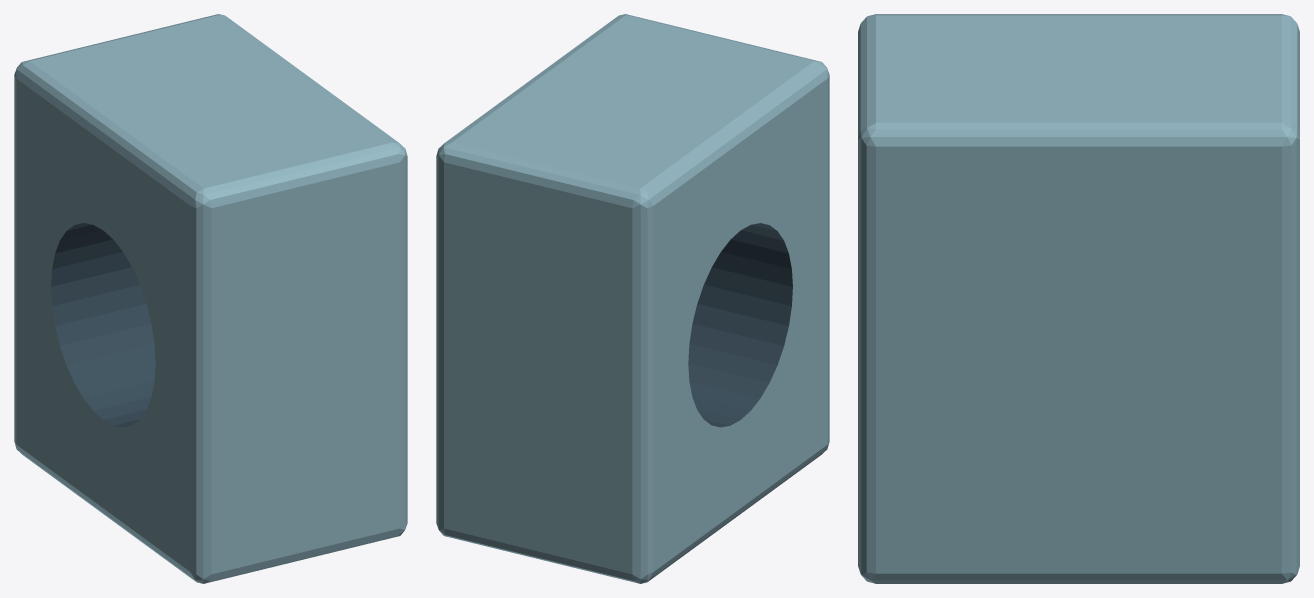
3 renders of one model, left to right at view 1: azimuth 30°, elevation 25°; view 2: azimuth 150°, elevation 25°; view 3: azimuth 270°, elevation 25°, orthographic. The views are drawn at different scales.
Visible parts, largest first — view 1: geometry_0; view 2: geometry_0; view 3: geometry_0.
Boxes of the visible parts, x1,y1,x2,y2 form: geometry_0: (14, 14, 407, 583); geometry_0: (436, 14, 829, 583); geometry_0: (858, 14, 1299, 583).
Bounding box in the file's own units: 0.016 × 0.028 × 0.0244.
Materials: 1 (1 with a texture image).
